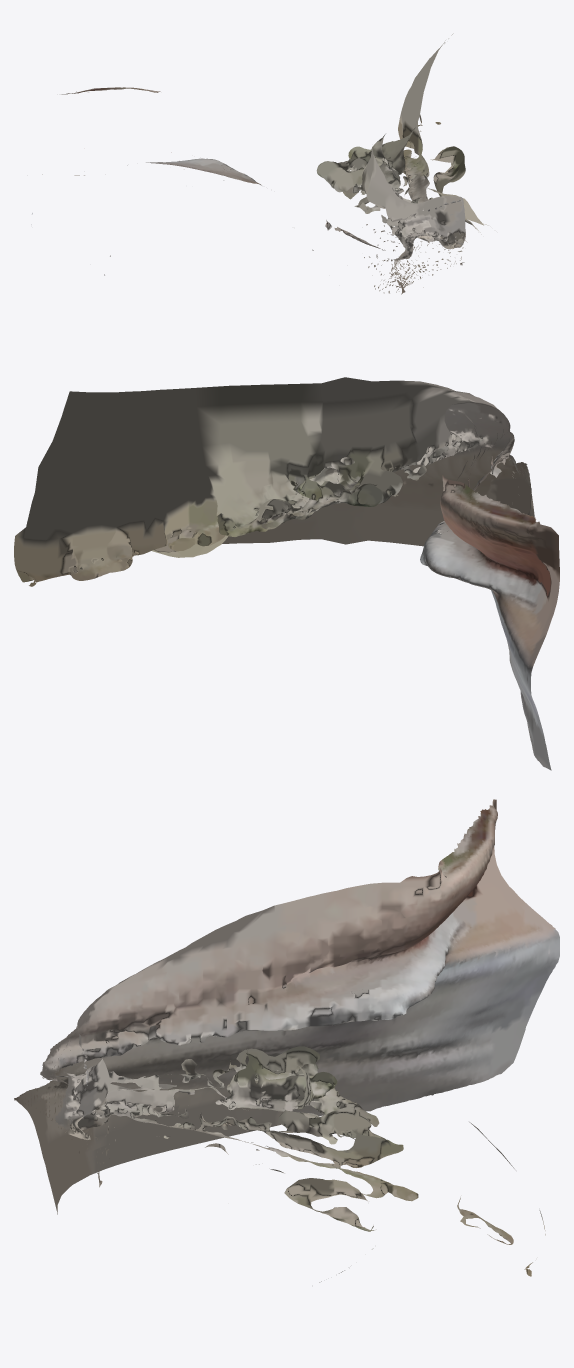
File: 3d_model_stitched_image_20250705_153918.gltf
The picture shows the model from 3 angles, top to bottom: view 1: azimuth 30°, elevation 25°; view 2: azimuth 150°, elevation 25°; view 3: azimuth 270°, elevation 25°; orthographic projection. The views are drawn at different scales.
Bounding box in the file's own units: 0.00104 × 0.000456 × 0.000823.
